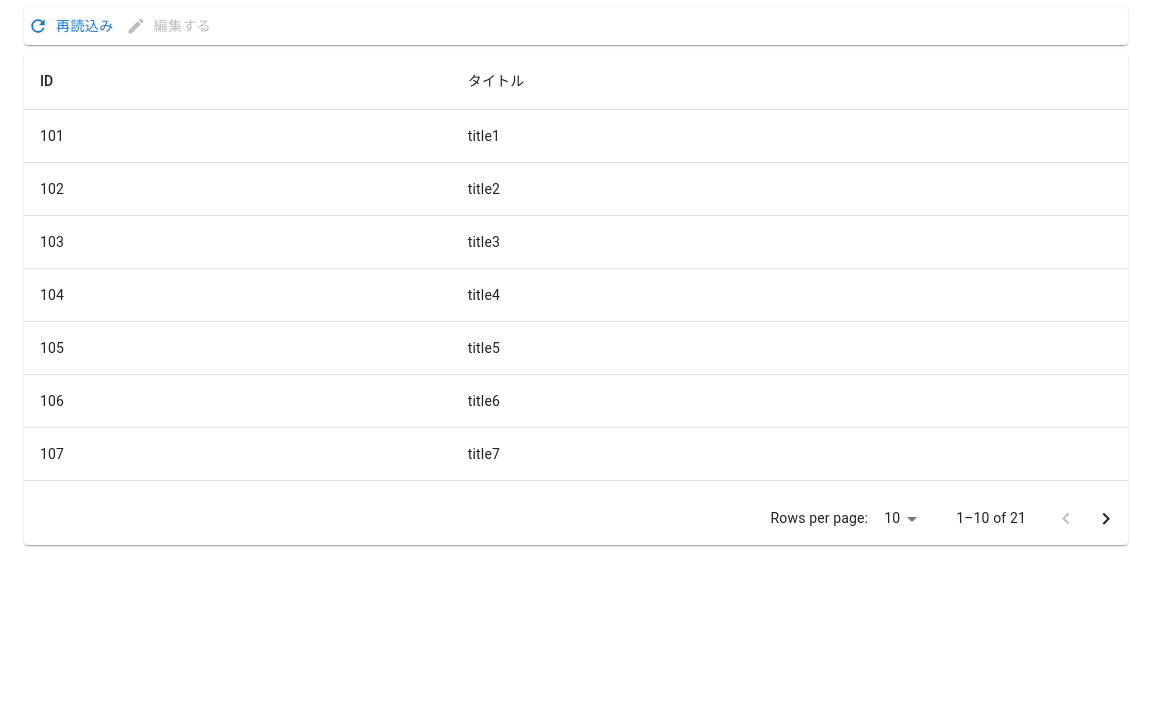
Test: ArticleList › ページネーション › ページ移動 › 表示件数が2ページ以上になる場合 › 途中ページ › 前ページボタンは有効になる
The image size is (1152, 720).
Click the button named "next": (1106,518) [1086, 498, 1126, 538]
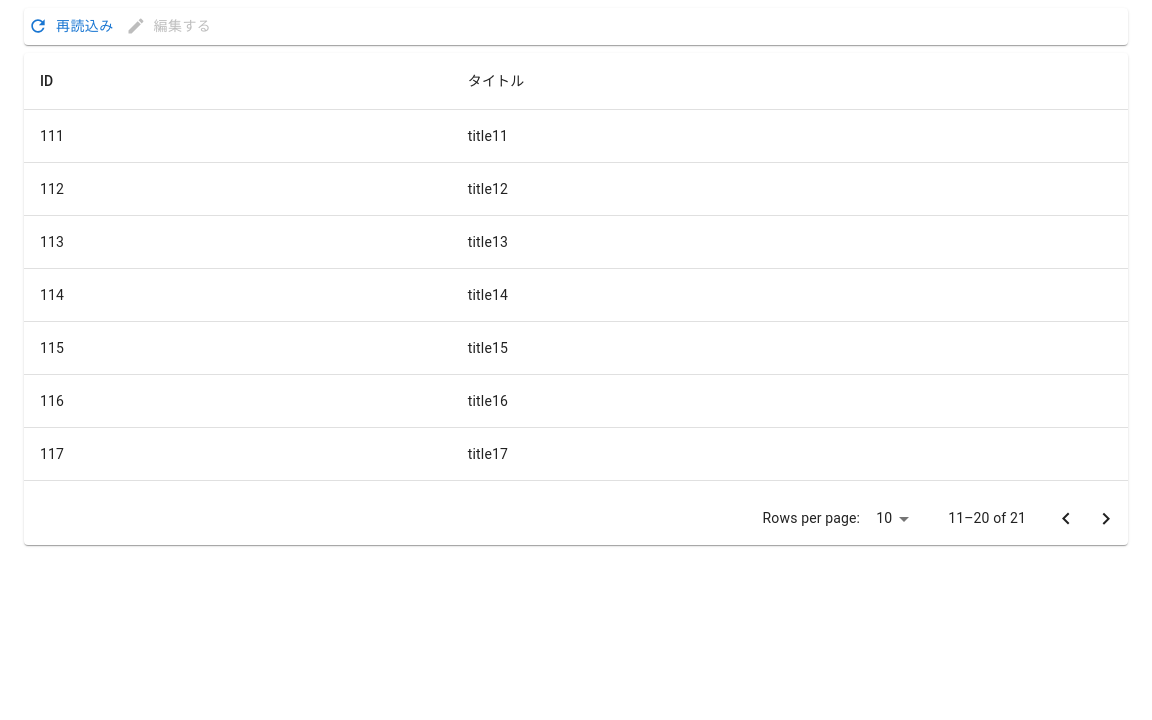
Expected: the button named "back" is enabled, [1046, 498, 1086, 538]
